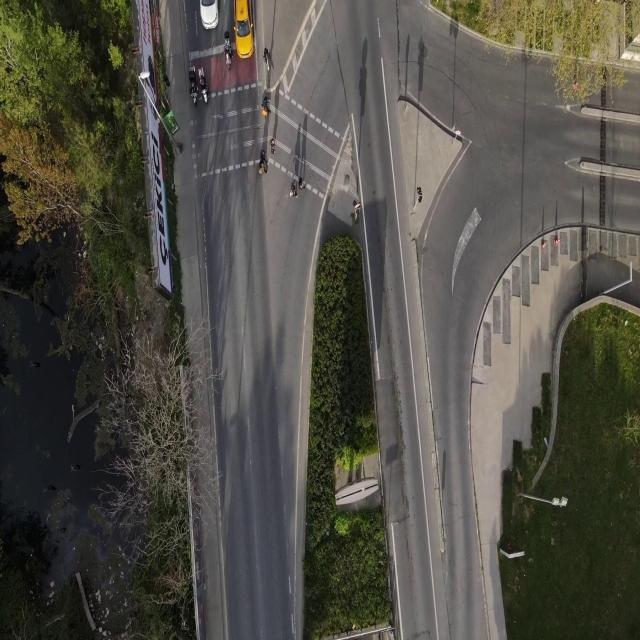p3rson: (261, 98, 272, 118), (298, 176, 306, 191), (259, 160, 268, 173), (260, 149, 268, 163), (290, 185, 298, 198), (270, 137, 275, 153)
